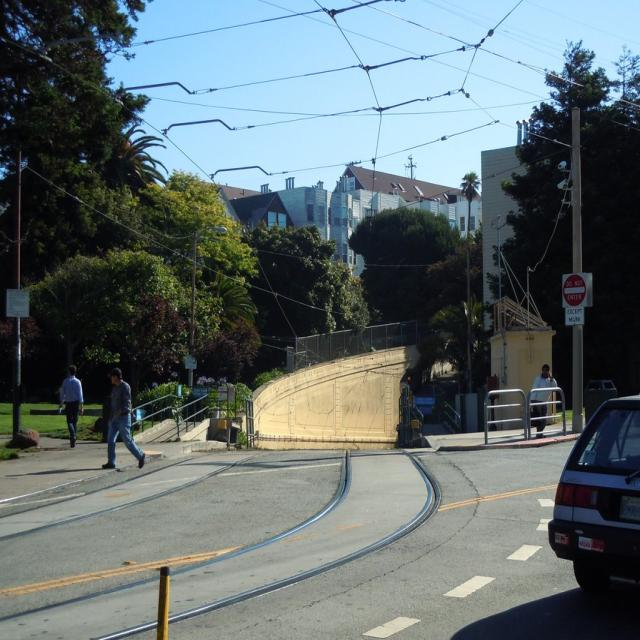car: (547, 391, 635, 606)
